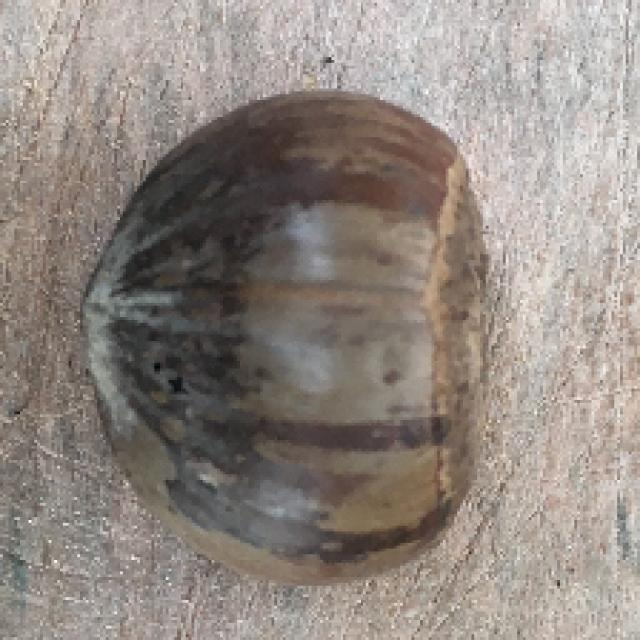damagedHazelnut: (72, 86, 502, 584)
